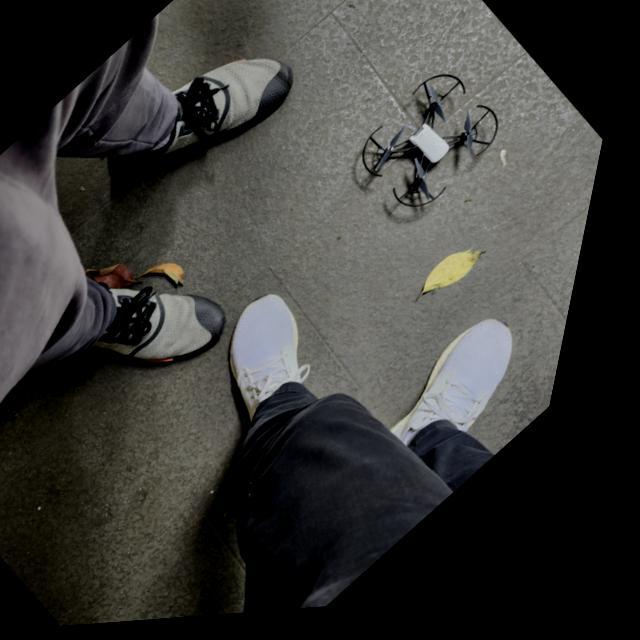drone: (369, 81, 504, 214)
